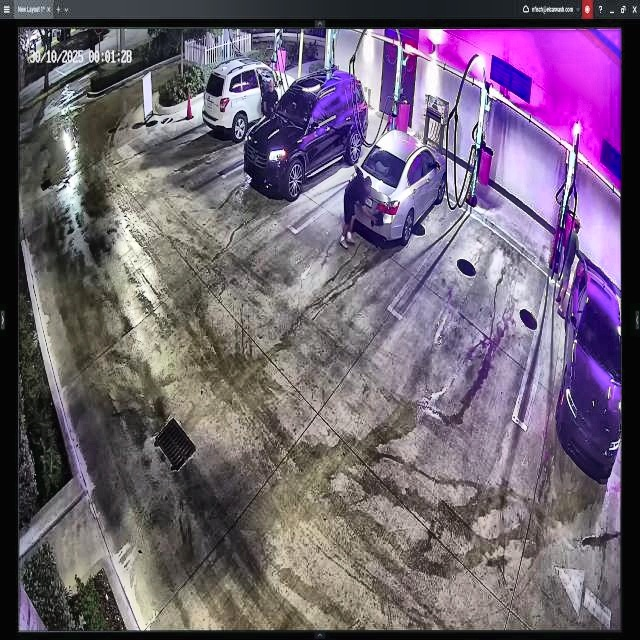Car: (246, 74, 370, 197), (345, 131, 445, 247)
